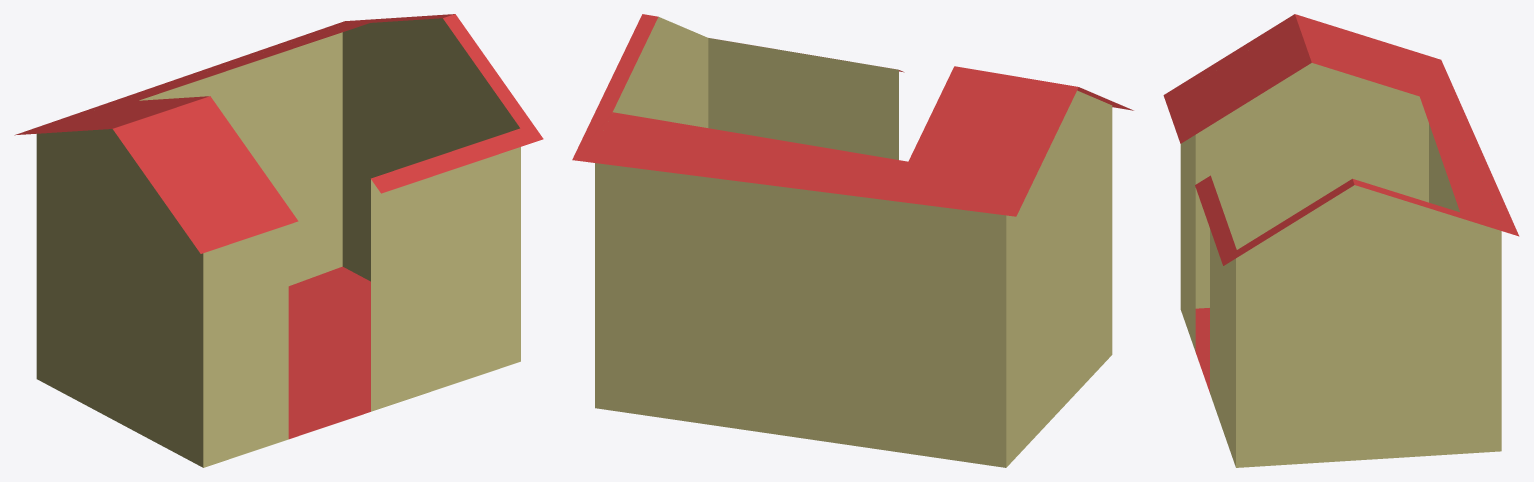
3 renders of one model, left to right at view 1: azimuth 30°, elevation 25°; view 2: azimuth 150°, elevation 25°; view 3: azimuth 270°, elevation 25°, orthographic. The views are drawn at different scales.
Bounding box in the file's own units: 14.68 × 11.73 × 10.25.
